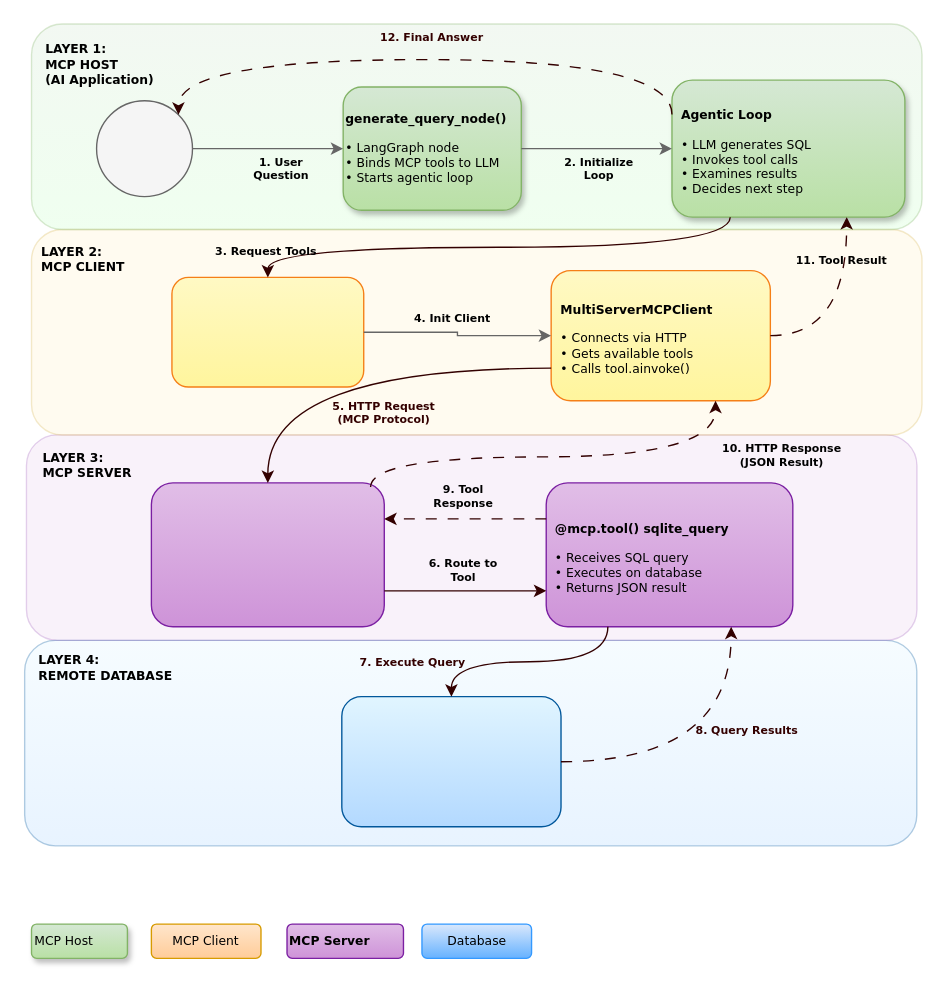
Some shapes in this 945 by 992 pixel diagram are drawn without their labels. Each missing label, with the centre of its shape:
FastMCP • HTTP server on port 8100 • Exposes tools via MCP protocol: the point at 267,554
get_sqlite_tools() • Reads MCP server URL • Returns tool list: the point at 267,331
Turso SQLite Cloud • Remote database • Connected via libsql: the point at 450,761
User Prompt: the point at 143,148
